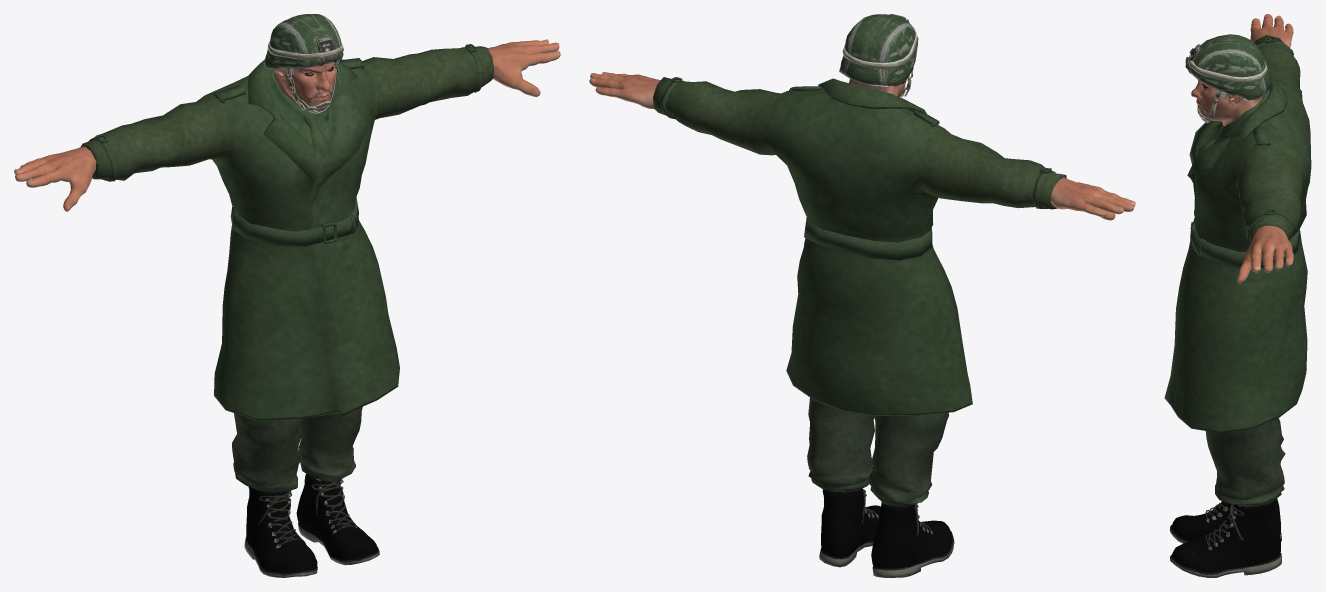
Rendered from Inimigo_1.obj.
The picture shows the model from 3 angles, left to right: view 1: azimuth 30°, elevation 25°; view 2: azimuth 150°, elevation 25°; view 3: azimuth 270°, elevation 25°; orthographic projection. The views are drawn at different scales.
Parts seen in each view (by area): view 1: Tops, Shoes, Bottoms, Body, Hats; view 2: Tops, Bottoms, Shoes, Hats, Body; view 3: Tops, Shoes, Bottoms, Hats, Body.
Boxes of the visible parts, box(x1,y1,x2,y2) form: Tops: box(80, 44, 493, 420); Shoes: box(244, 474, 379, 577); Bottoms: box(232, 406, 362, 492); Body: box(14, 39, 560, 492); Hats: box(264, 14, 343, 113); Tops: box(653, 77, 1066, 415); Bottoms: box(807, 397, 949, 506); Shoes: box(819, 488, 954, 577); Hats: box(839, 14, 918, 96); Body: box(589, 72, 1135, 220); Tops: box(1164, 35, 1311, 433); Shoes: box(1170, 498, 1281, 577); Bottoms: box(1205, 418, 1285, 507); Hats: box(1185, 34, 1270, 123); Body: box(1191, 14, 1293, 506).
Bounding box in the file's own units: 239 × 226 × 58.37.
